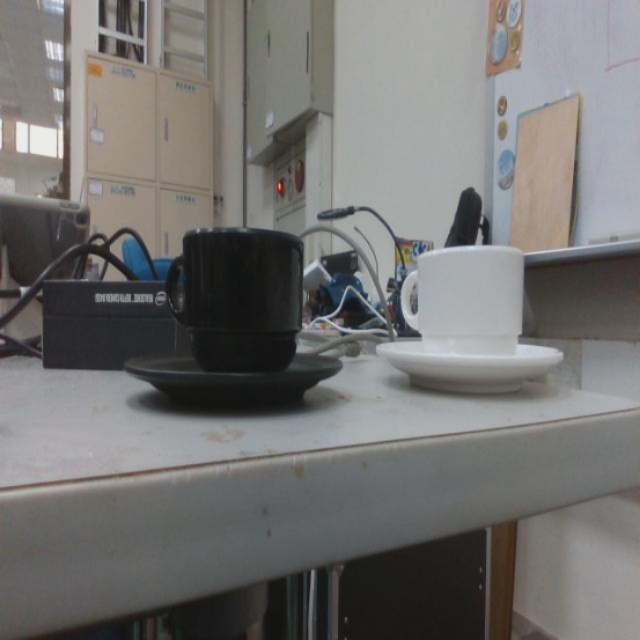black: (121, 222, 345, 416)
white: (373, 240, 565, 396)
